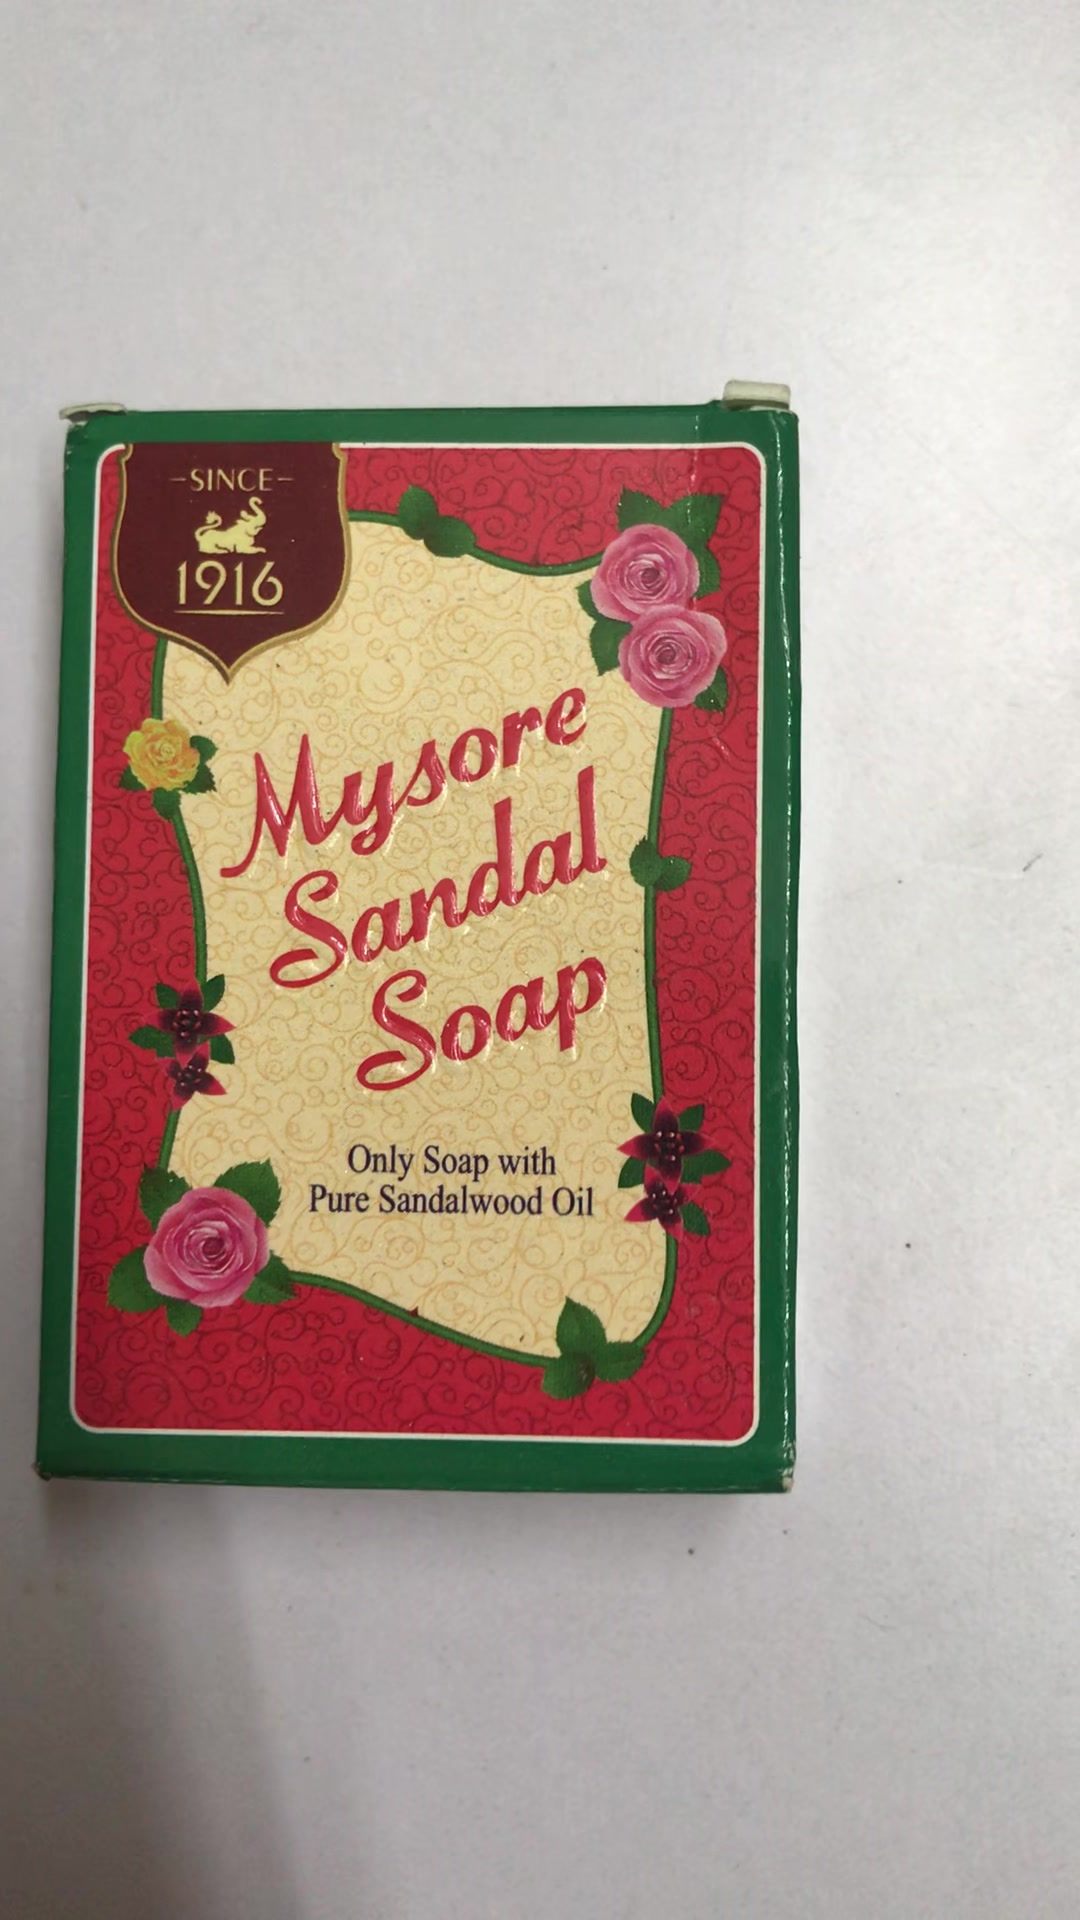mysore sandal soap: (63, 406, 807, 1490)
